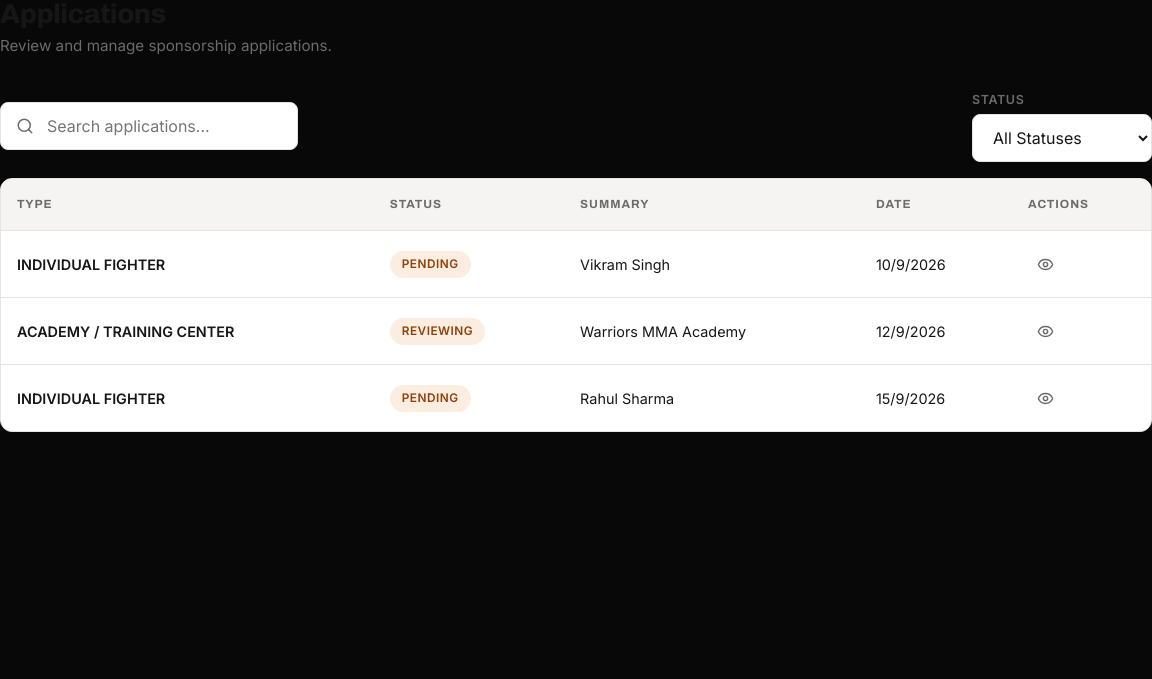
Test: AdminApplications supporting documents detail › renders the exact Not provided fallback for missing optional values
Note: Open detail for Rahul Sharma (bare record with null optionals)
Click the text "Rahul Sharma".
click(627, 398)  # box x1=564 y1=365 x2=860 y2=431
(page scrolled)
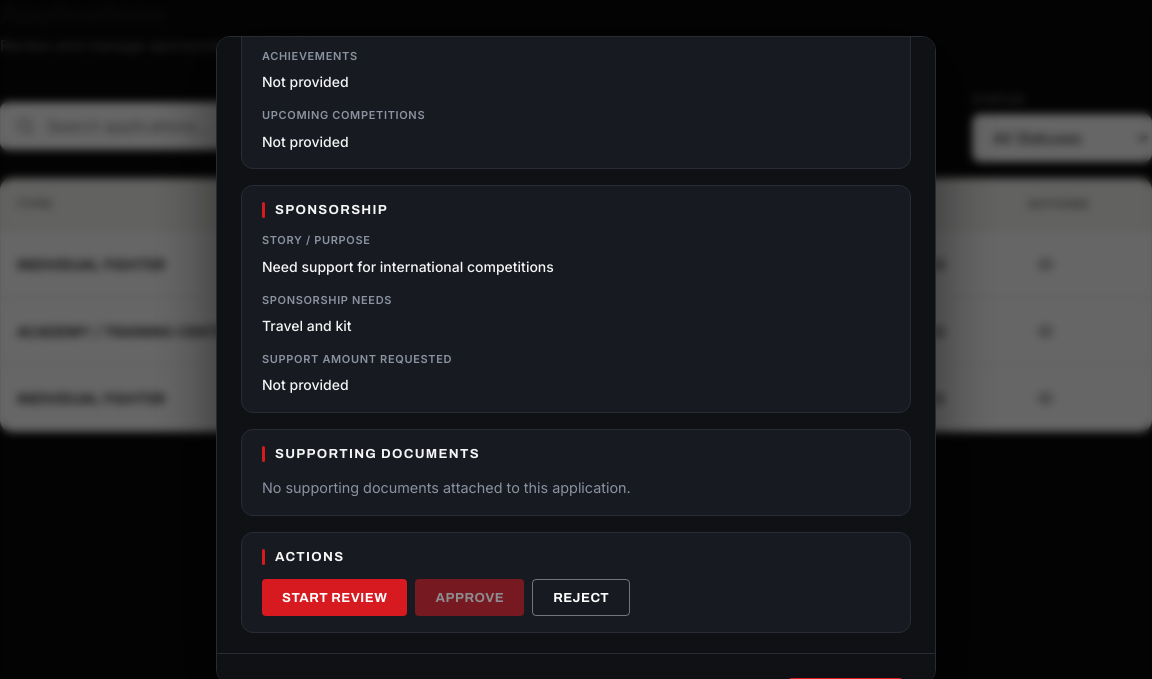
Expected: the text "Support Amount Requested" is shown, x1=262 y1=352 x2=452 y2=366
